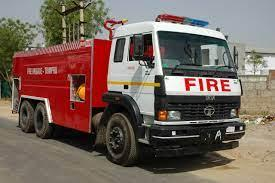Emergency-Vehicles: (14, 17, 247, 154)
